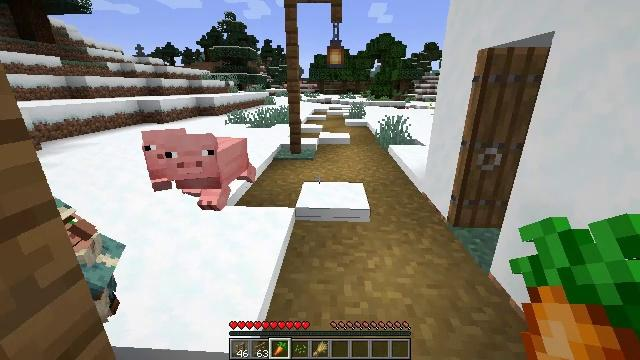pig: (167, 133, 256, 211), (142, 128, 187, 192)
